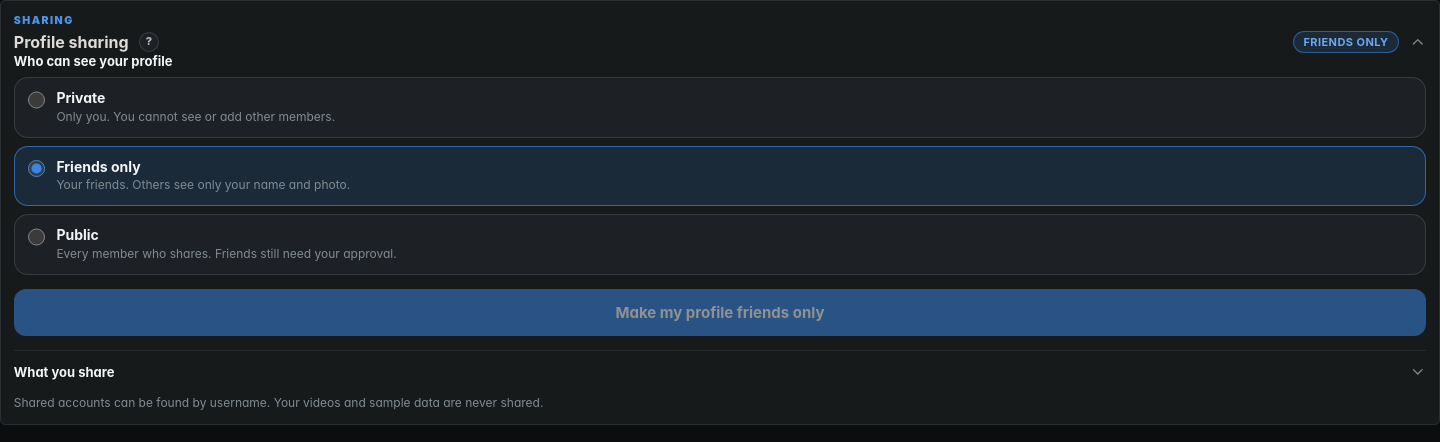
Test case: profile sharing visibility › waits for the confirm button before changing who can see a shared profile
The width and height of the screenshot is (1440, 442).
Click the 3rd radio button: (36, 237) [28,228,45,246]
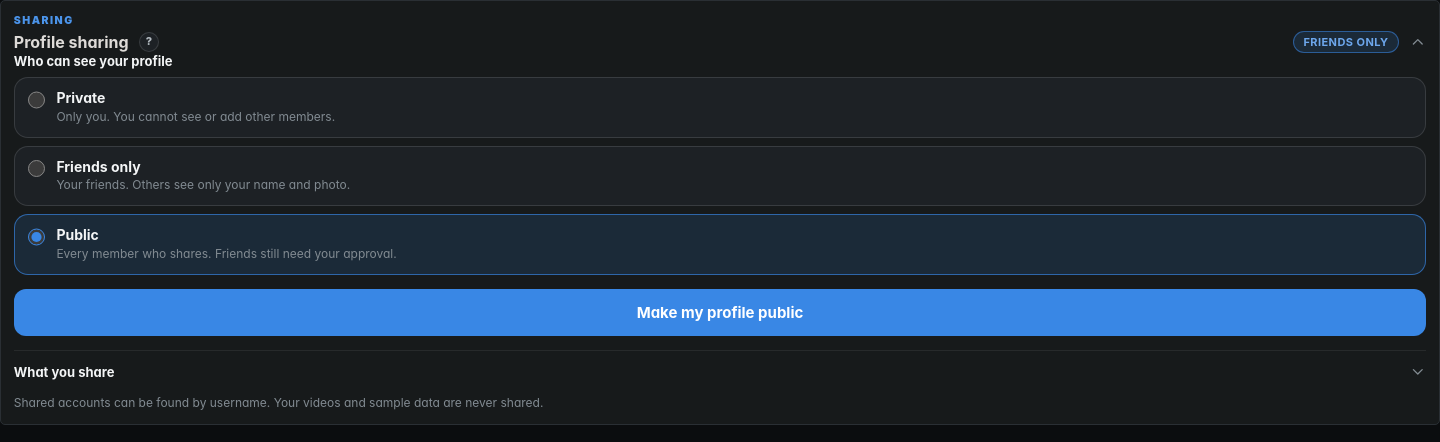
Click the button "Make my profile public": (720, 312) [14,289,1426,336]
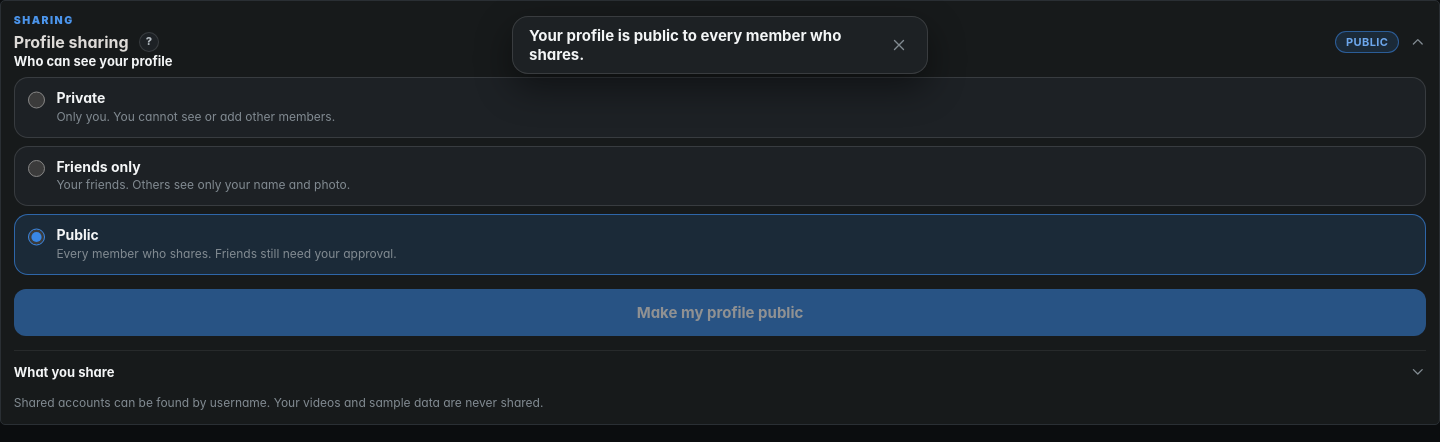
Result: the button "Make my profile public" is disabled at [14,289,1426,336]
